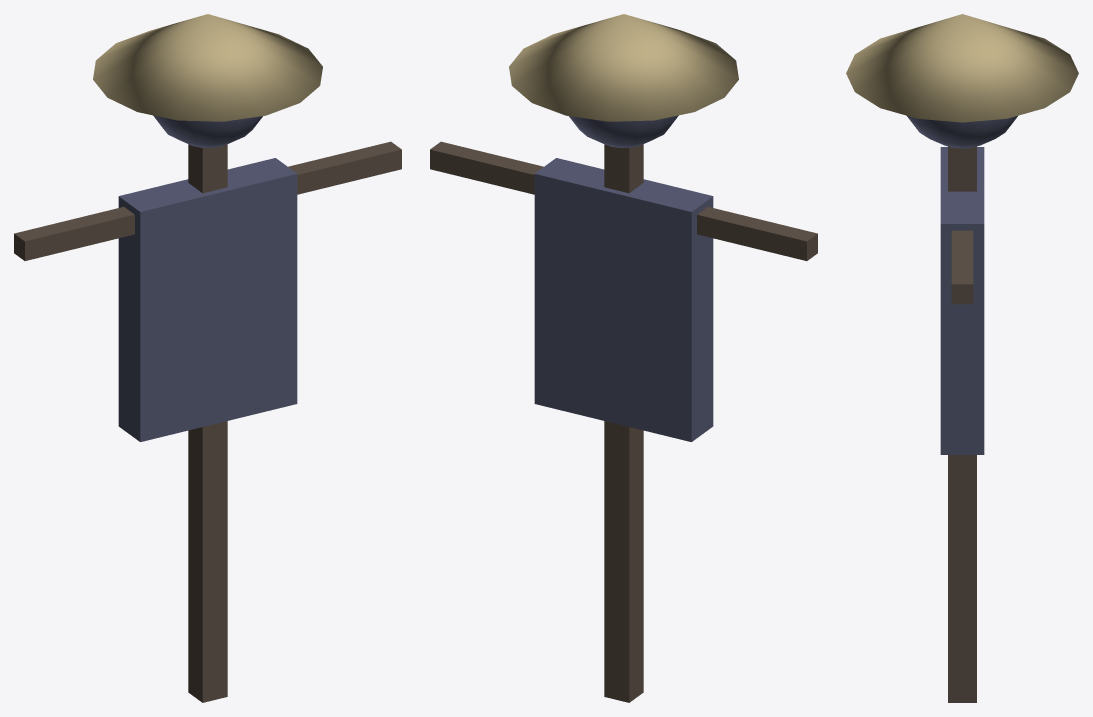
Rendered from prop_kakashi.glb.
The picture shows the model from 3 angles, left to right: view 1: azimuth 30°, elevation 25°; view 2: azimuth 150°, elevation 25°; view 3: azimuth 270°, elevation 25°; orthographic projection.
Parts seen in each view (by area): view 1: kakashi; view 2: kakashi; view 3: kakashi.
Part boxes in pixels (<box>): kakashi: <box>14,14,401,702</box>; kakashi: <box>430,14,817,702</box>; kakashi: <box>846,14,1078,702</box>.
Bounding box in the file's own units: 1.2 × 2.07 × 0.64.
